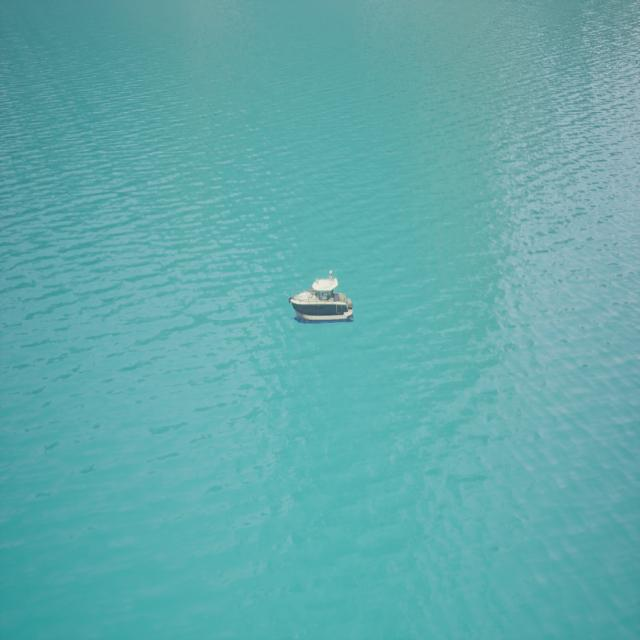ship: (288, 268, 354, 322)
